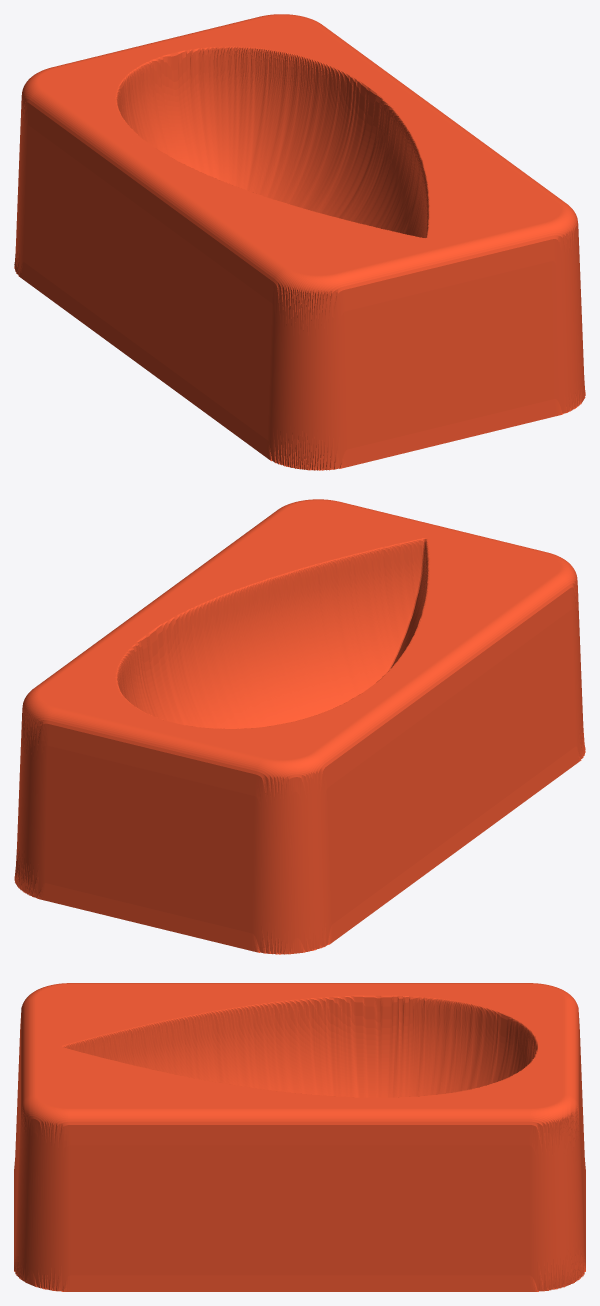
The model's file is mold.glb.
3 renders of one model, top to bottom at view 1: azimuth 30°, elevation 25°; view 2: azimuth 150°, elevation 25°; view 3: azimuth 270°, elevation 25°, orthographic. The views are drawn at different scales.
Visible parts, largest first — view 1: geometry_0; view 2: geometry_0; view 3: geometry_0.
Part boxes in pixels (<box>): geometry_0: <box>14,14,585,470</box>; geometry_0: <box>14,499,585,954</box>; geometry_0: <box>14,983,585,1291</box>.
Size of the model in its own units: 0.0546 by 0.031 by 0.0924.
